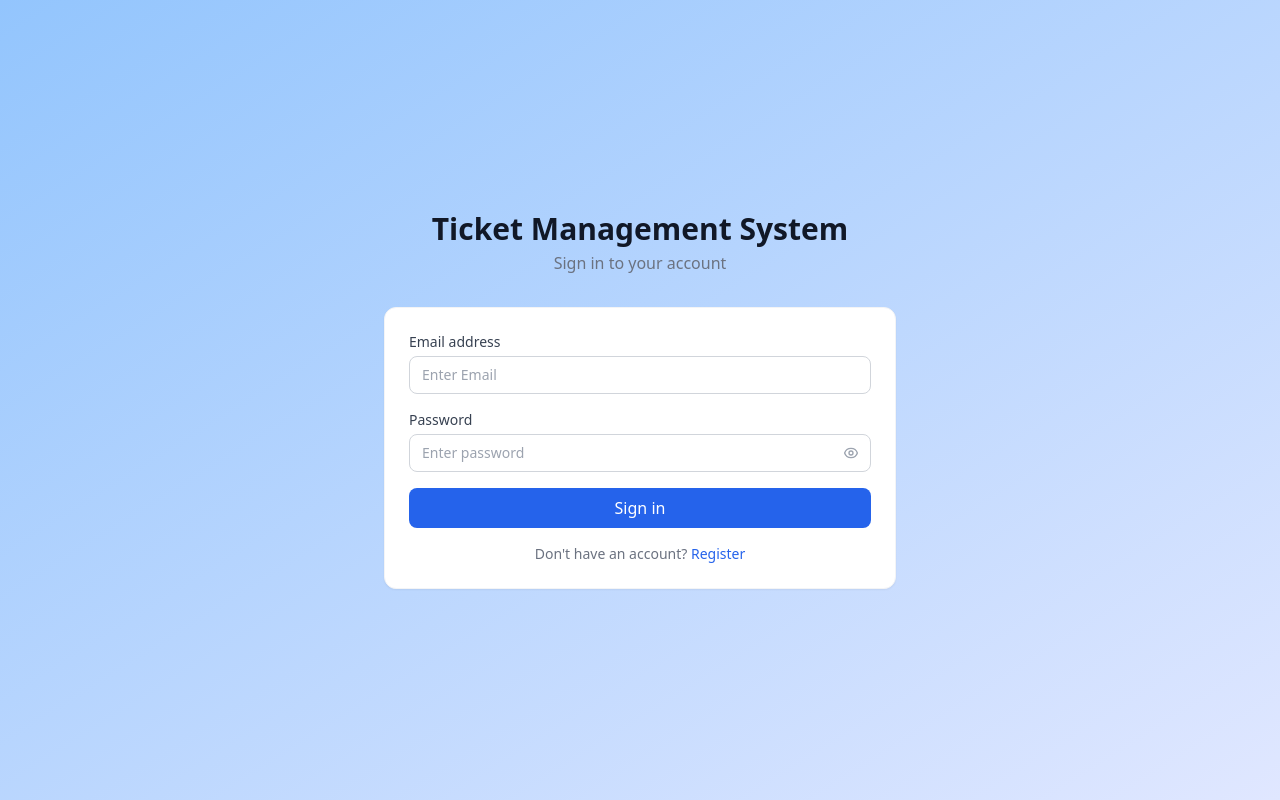
it: LoginPage › shows validation error for invalid email
The width and height of the screenshot is (1280, 800).
Type "notanemail" into the field labelled "Email address".
click(640, 375); type("notanemail")  # box [409, 356, 871, 394]
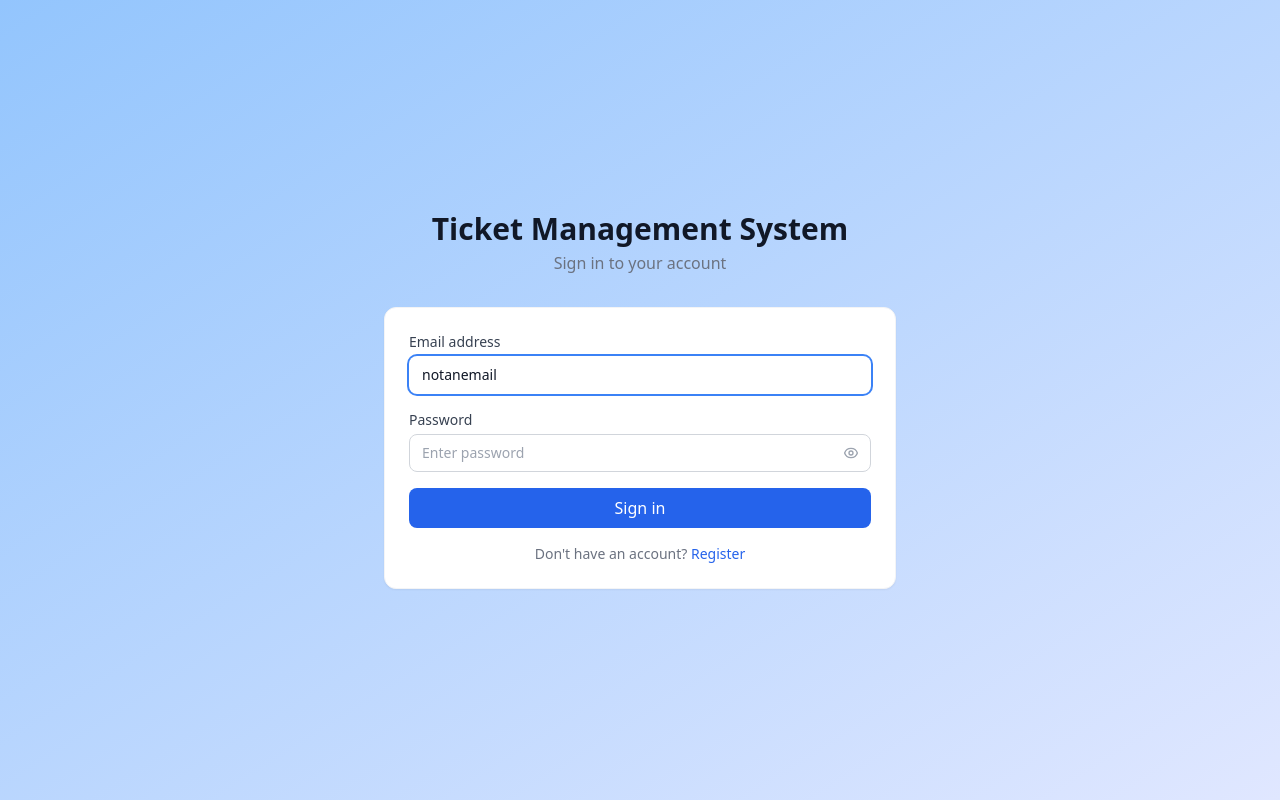
Click the button "Sign in".
click(640, 508)  # box [409, 488, 871, 528]
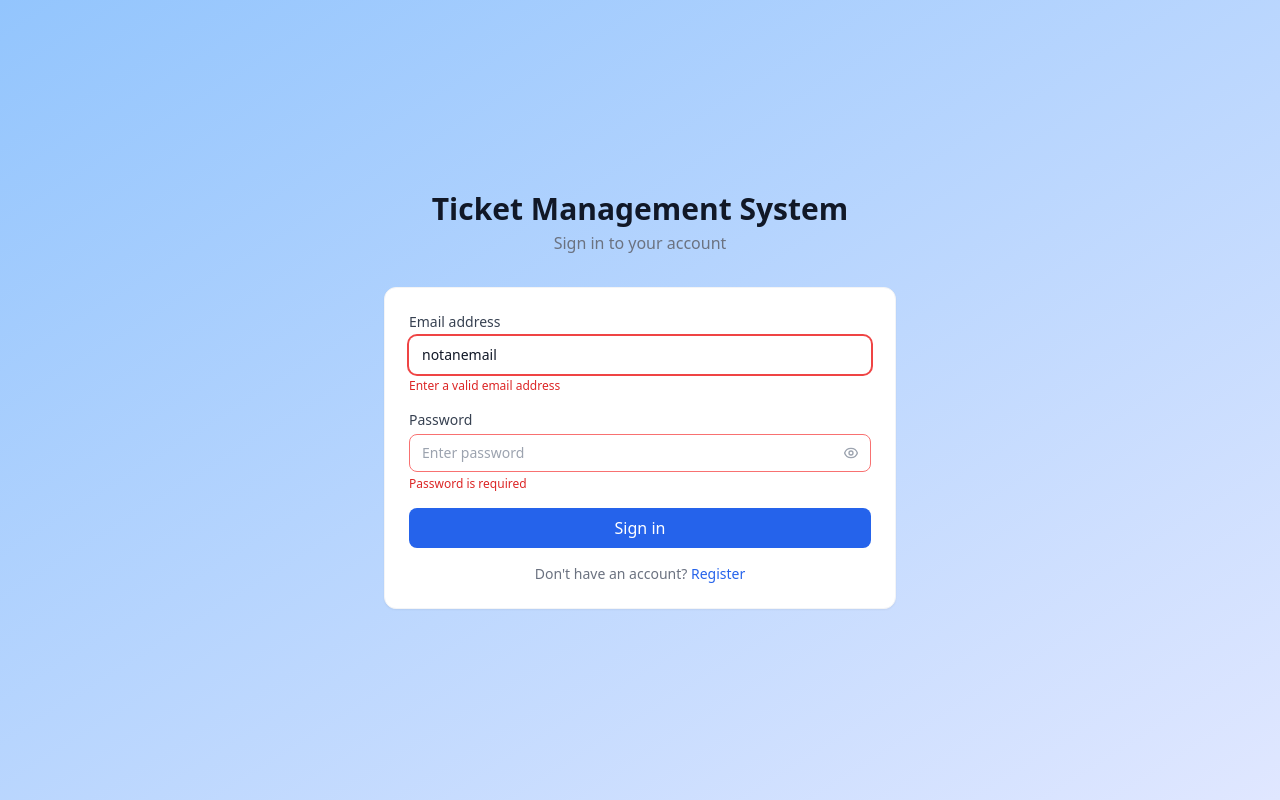
Expected: the text "Enter a valid email address" is shown, [409, 377, 560, 394]
